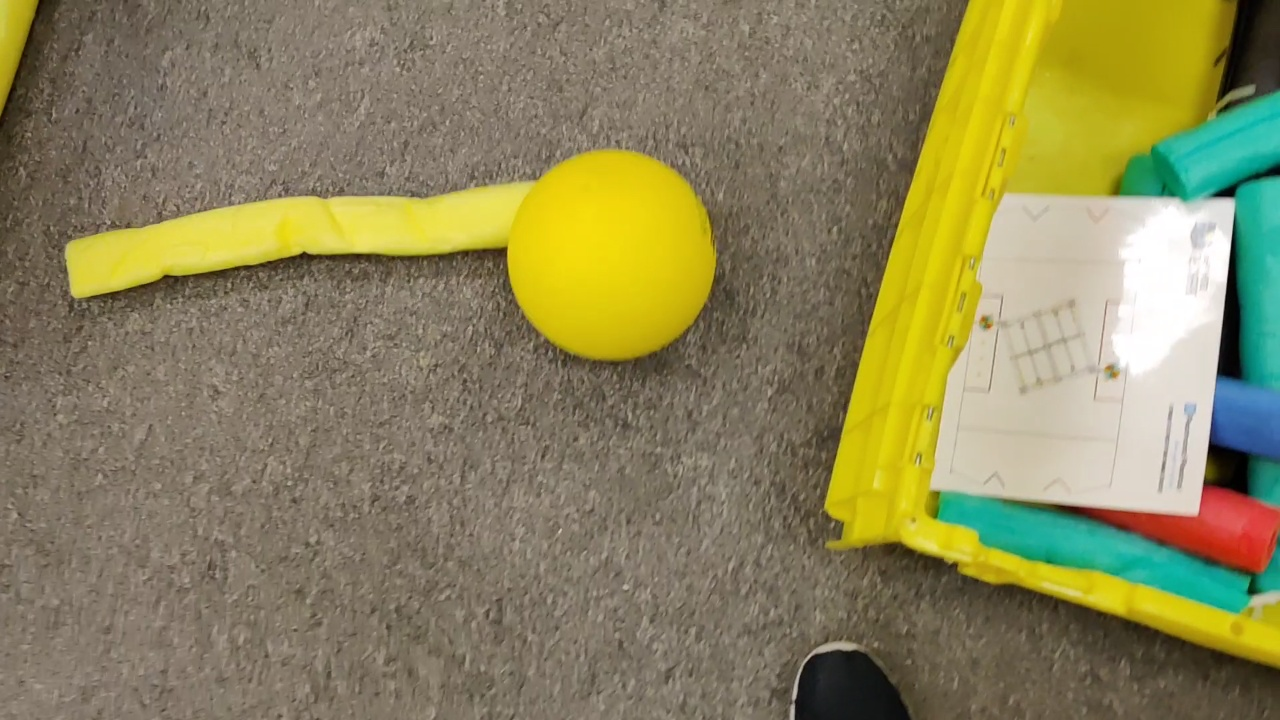Ball: (509, 147, 730, 361)
